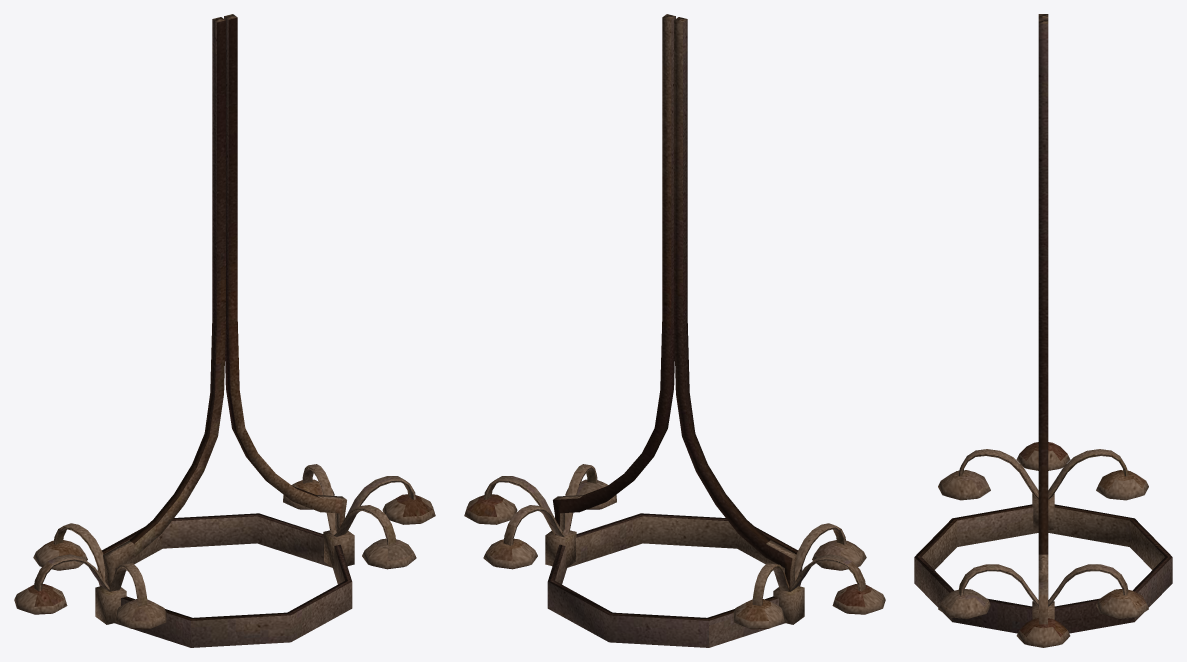
Rendered from Clight_08.obj.
The picture shows the model from 3 angles, left to right: view 1: azimuth 30°, elevation 25°; view 2: azimuth 150°, elevation 25°; view 3: azimuth 270°, elevation 25°; orthographic projection. The views are drawn at different scales.
Parts seen in each view (by area): view 1: Clight_08; view 2: Clight_08; view 3: Clight_08.
Boxes of the visible parts, x1,y1,x2,y2 form: Clight_08: (14, 14, 435, 647); Clight_08: (464, 14, 885, 647); Clight_08: (914, 14, 1172, 647).
Bounding box in the file's own units: 1.48 × 1.96 × 0.8131.
Materials: 1 (1 with a texture image).
